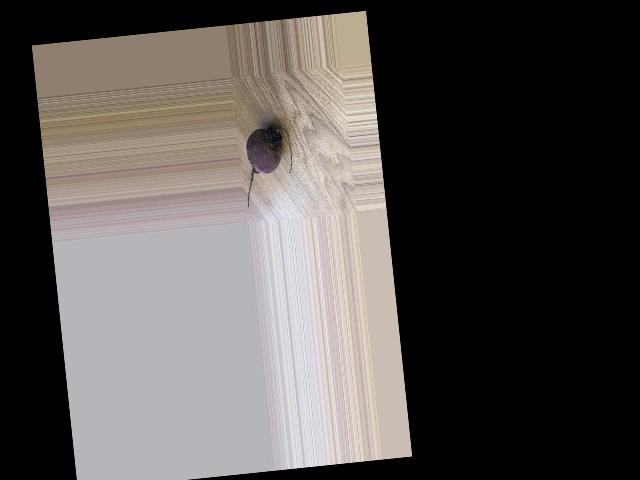beet: (239, 123, 296, 207)
